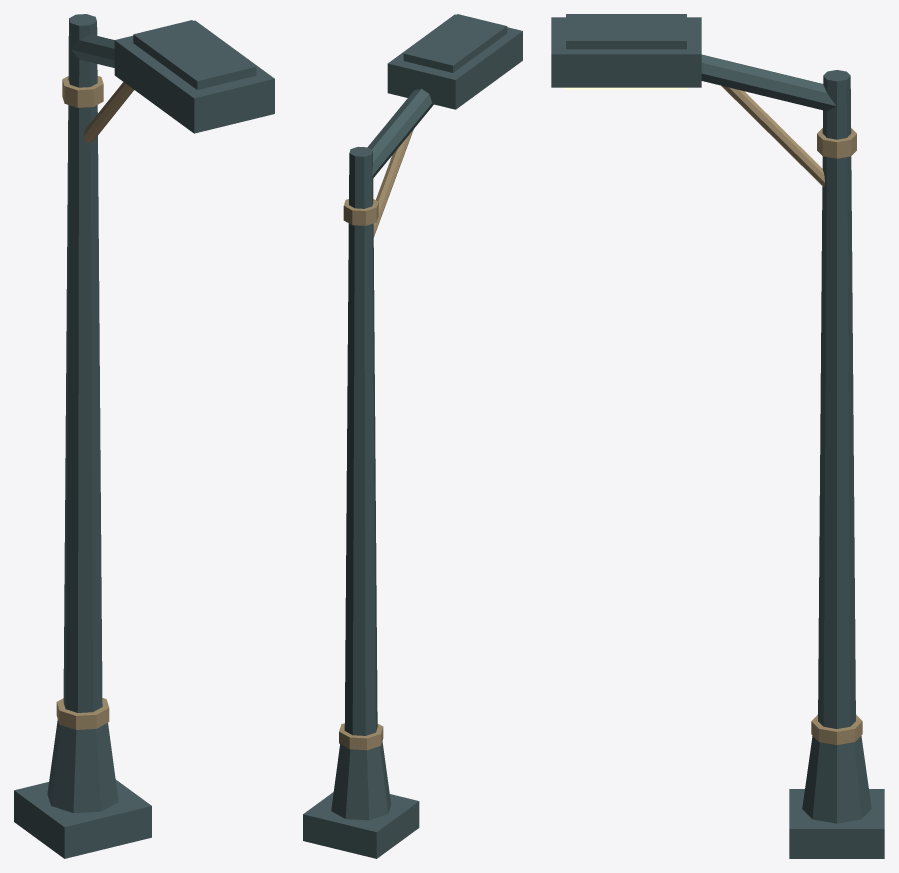
File: street-lamp-test.glb
3 renders of one model, left to right at view 1: azimuth 30°, elevation 25°; view 2: azimuth 150°, elevation 25°; view 3: azimuth 270°, elevation 25°, orthographic. The views are drawn at different scales.
Parts seen in each view (by area): view 1: PROP_StreetLamp_Test; view 2: PROP_StreetLamp_Test; view 3: PROP_StreetLamp_Test.
Boxes of the visible parts, x1=… form: PROP_StreetLamp_Test: x1=14, y1=14, x2=274, y2=858; PROP_StreetLamp_Test: x1=303, y1=14, x2=522, y2=858; PROP_StreetLamp_Test: x1=551, y1=14, x2=884, y2=858.
Bounding box in the file's own units: 0.52 × 4.89 × 1.82.
